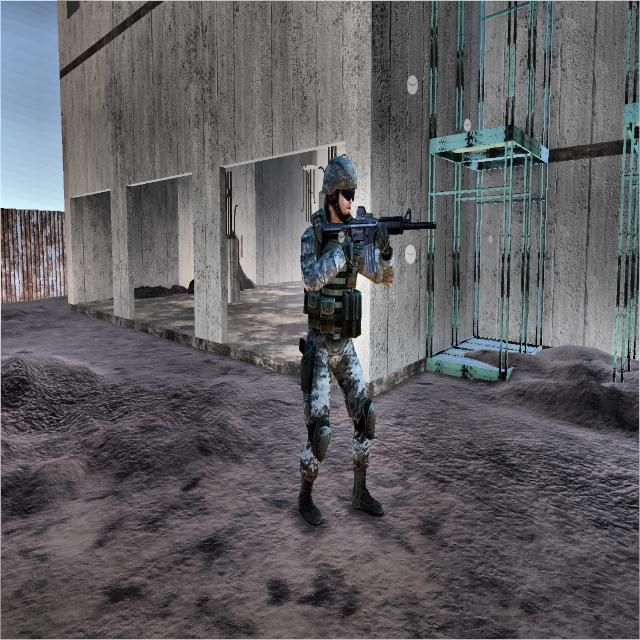bad: (290, 146, 438, 530)
